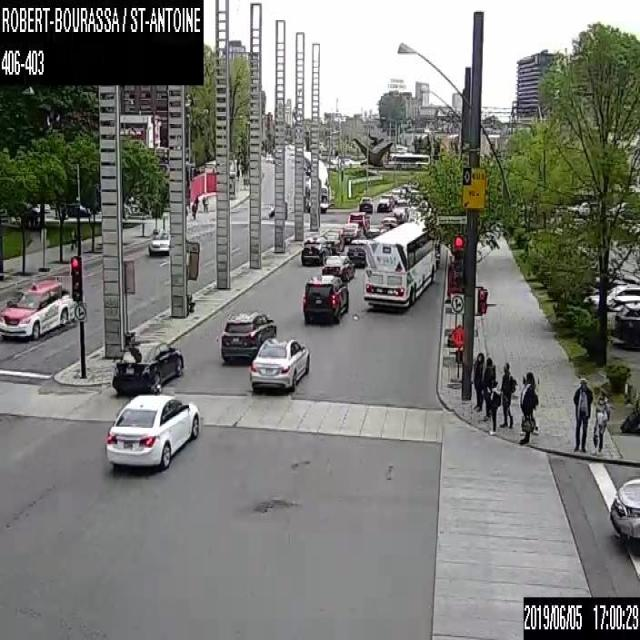bus: (364, 221, 435, 309), (305, 179, 327, 212), (388, 153, 430, 169), (303, 150, 325, 174), (308, 168, 328, 180)
construction: (122, 258, 135, 342), (184, 238, 198, 311), (449, 324, 462, 388)
pedestrian: (518, 368, 538, 444), (572, 377, 592, 451), (499, 361, 517, 427), (593, 391, 610, 451), (482, 356, 496, 421), (485, 378, 500, 435), (472, 351, 485, 410), (191, 200, 196, 218), (204, 196, 209, 213), (194, 193, 198, 210), (202, 194, 205, 211)
vehicle: (106, 394, 200, 468), (0, 277, 74, 339), (112, 339, 184, 393), (250, 336, 309, 394), (221, 310, 276, 362), (302, 273, 348, 323), (608, 473, 639, 538), (300, 236, 331, 264), (321, 254, 354, 280), (348, 238, 369, 266), (147, 229, 169, 252), (323, 227, 345, 250), (347, 211, 370, 229), (268, 201, 287, 219), (343, 222, 361, 239), (392, 206, 408, 222), (366, 224, 384, 238), (358, 195, 372, 213), (376, 197, 390, 211), (380, 216, 396, 227), (396, 198, 407, 207), (265, 154, 272, 162)
